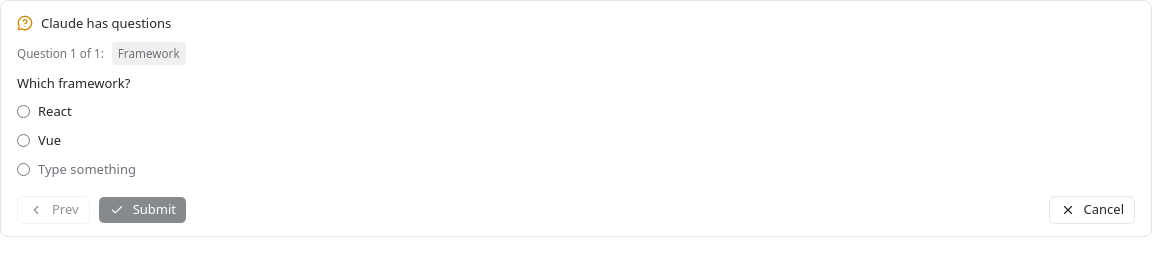
Scenario: ApprovalCard — AskUserQuestion form (parsed from content_preview) › auto-checks the custom radio when the user starts typing
Expected: the radio button with test id "ask-user-question-custom-toggle" is not checked, [17, 163, 30, 176]
Type "Solid" into the text box with test id "ask-user-question-custom-input" at (586, 169), box [38, 159, 1135, 180]
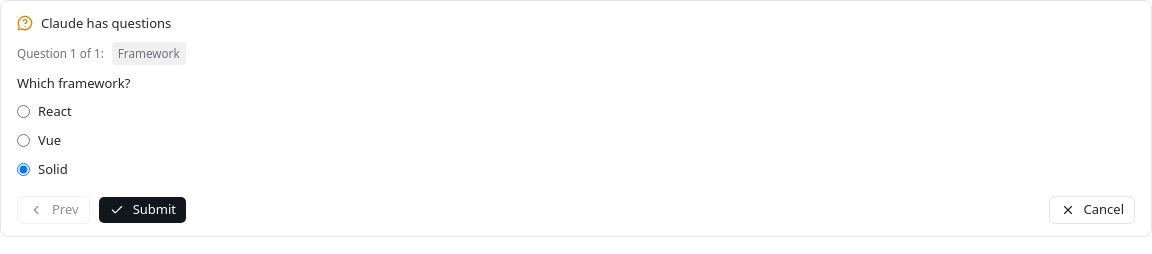
Expected: the radio button with test id "ask-user-question-custom-toggle" is checked, [17, 163, 30, 176]
Expected: the button with test id "ask-user-question-submit" is enabled, [98, 196, 187, 224]
